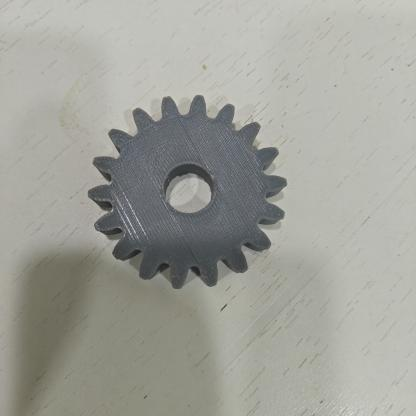gear: (88, 95, 287, 289)
